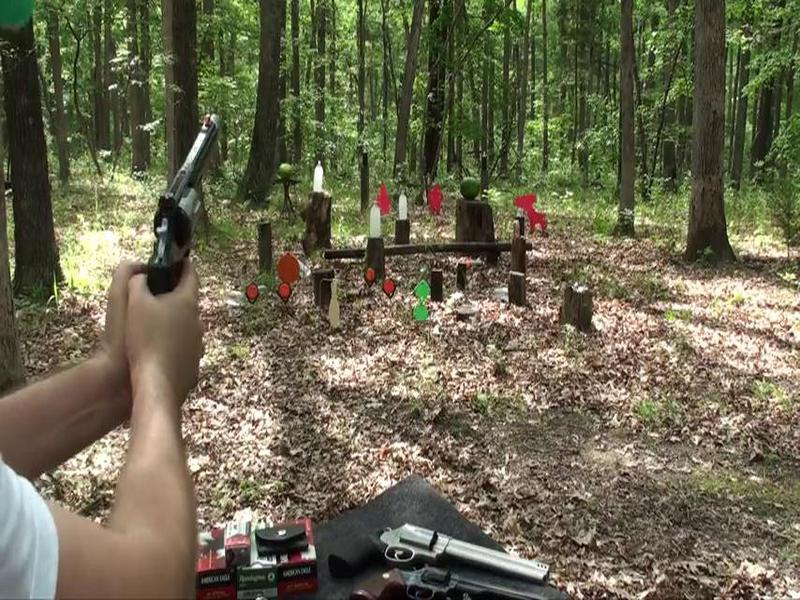Revolver: (125, 104, 230, 290)
